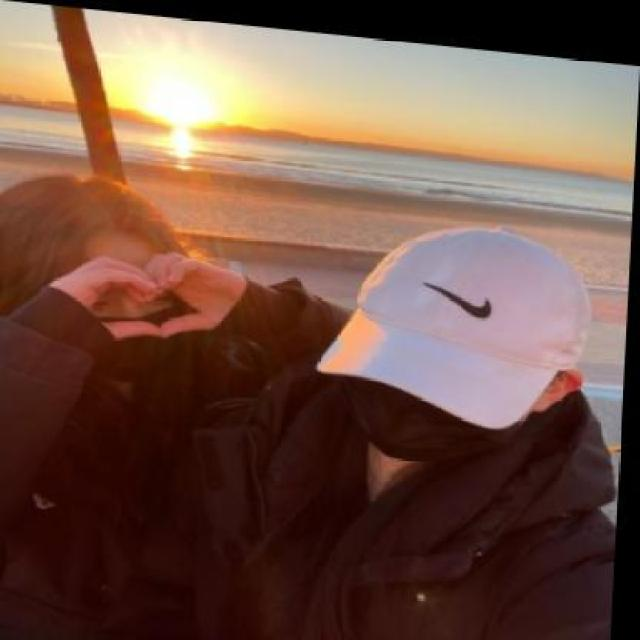hat: (306, 198, 599, 432)
